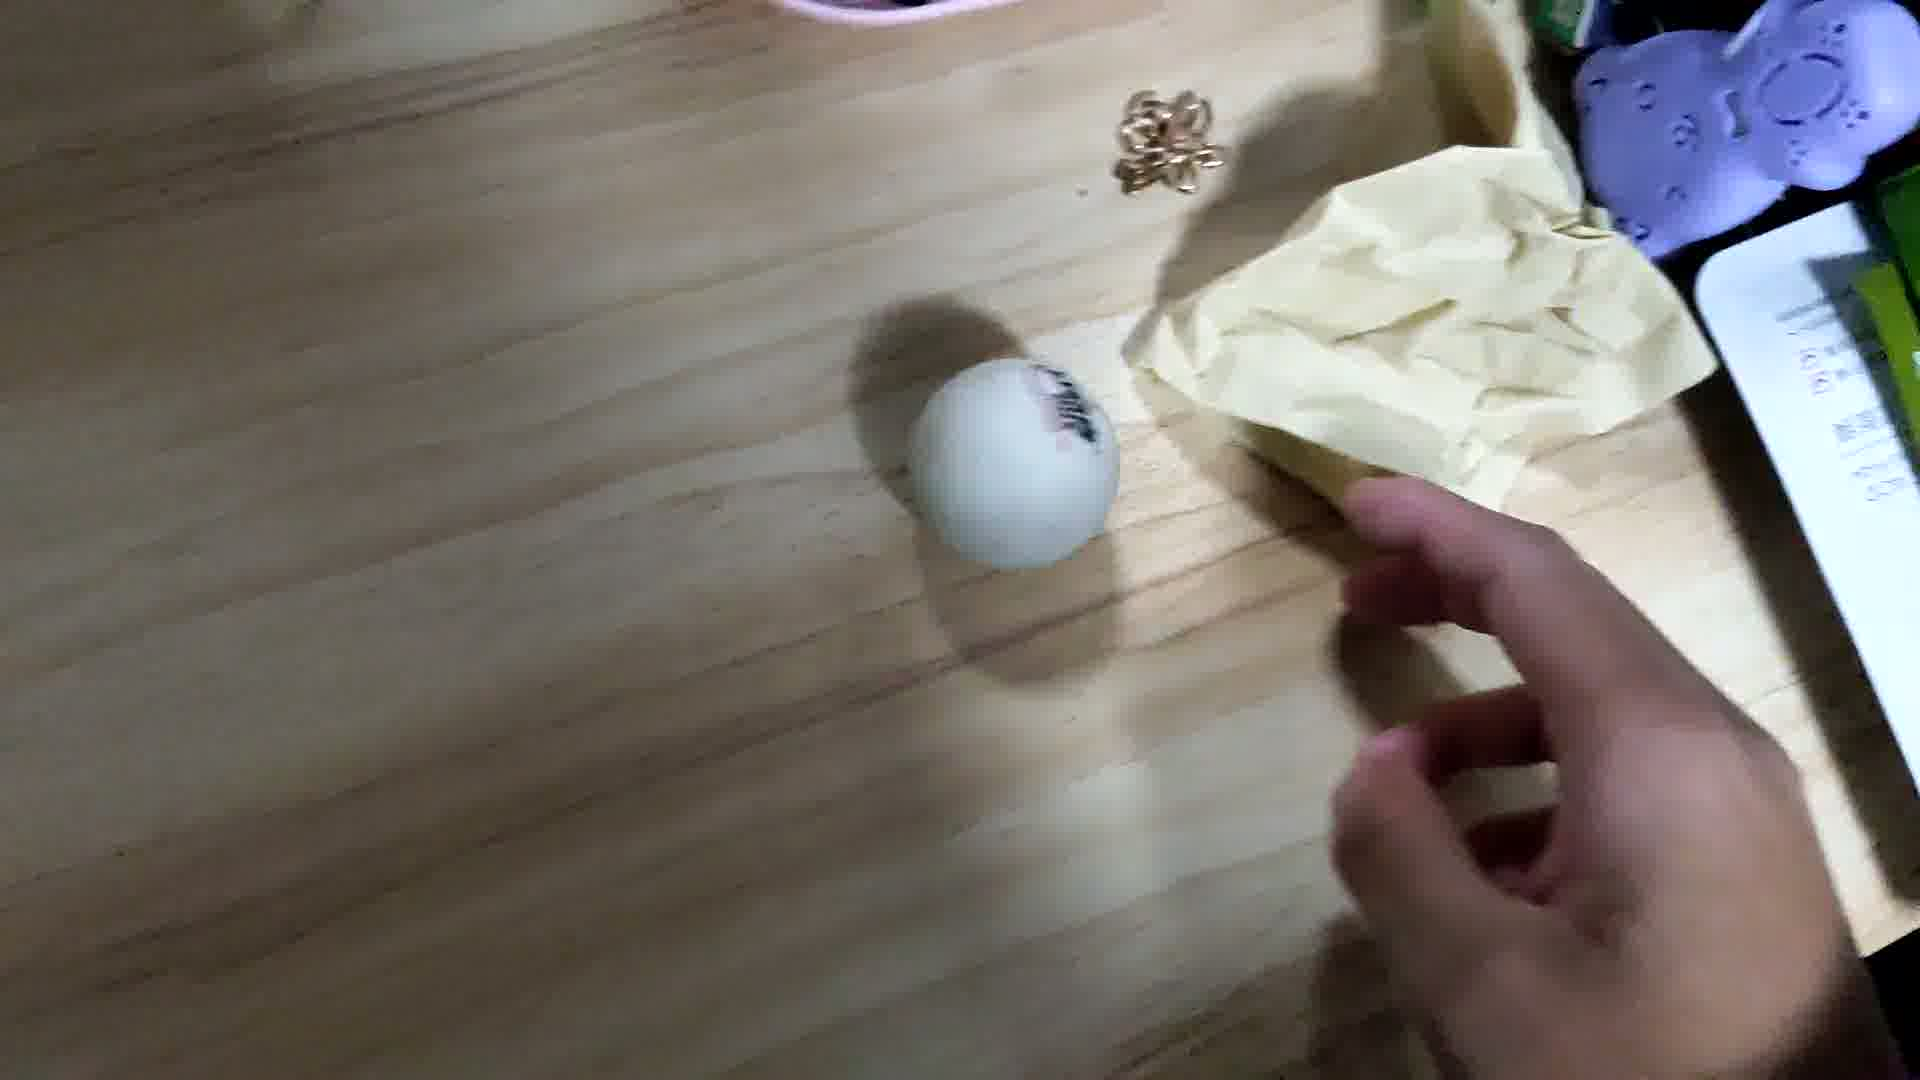Ball: (914, 357, 1120, 574)
